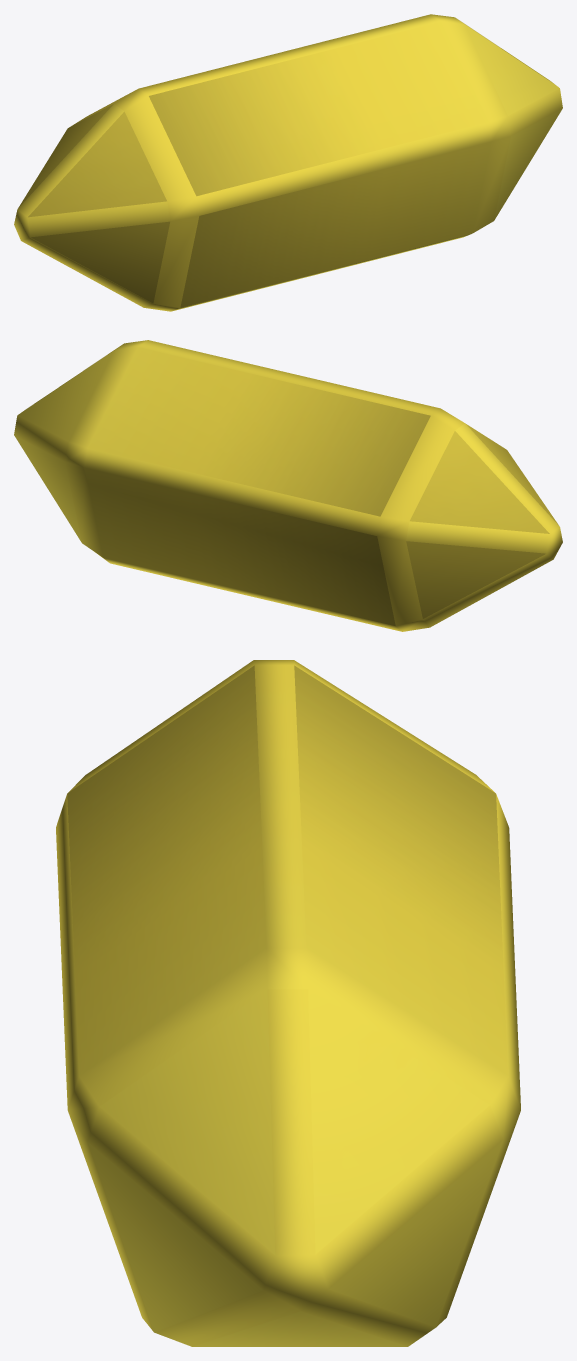
File: christal_topaz_5.fbx
3 views of the same model, one above another, from view 1: azimuth 30°, elevation 25°; view 2: azimuth 150°, elevation 25°; view 3: azimuth 270°, elevation 25° (orthographic). The views are drawn at different scales.
Visible parts, largest first — view 1: christal_topaz_5; view 2: christal_topaz_5; view 3: christal_topaz_5.
Part boxes in pixels (x1=…): christal_topaz_5: x1=14, y1=14, x2=562, y2=311; christal_topaz_5: x1=14, y1=340, x2=562, y2=631; christal_topaz_5: x1=56, y1=660, x2=520, y2=1346.
Bounding box in the file's own units: 64.29 × 22.77 × 24.56.
1 material, 1 textured.
